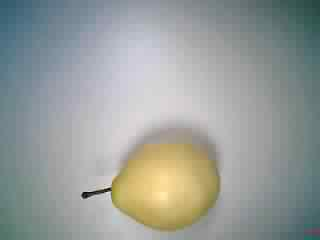pear: (76, 118, 234, 234)
